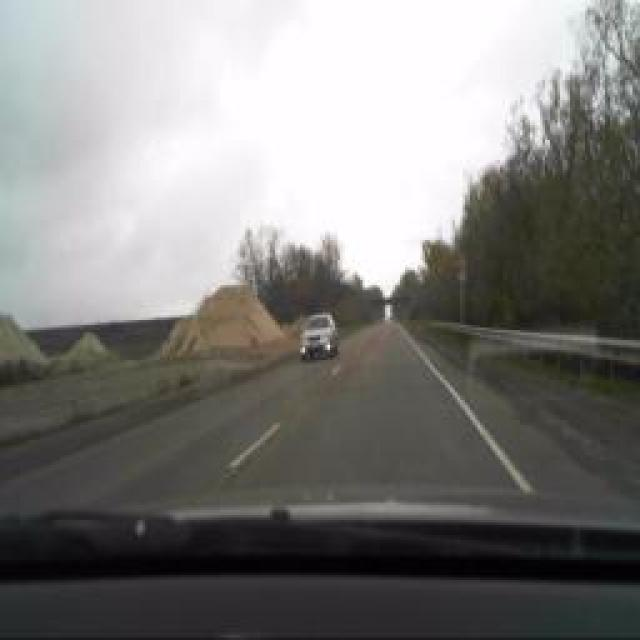sign: (456, 268, 466, 282)
